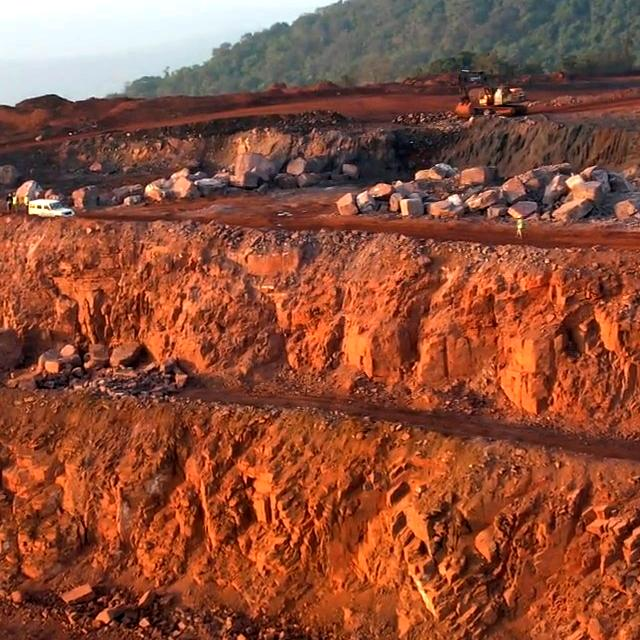Excavator: (477, 86, 528, 114)
car: (28, 198, 68, 217)
person: (514, 215, 525, 239), (12, 192, 21, 214), (5, 192, 13, 214)
